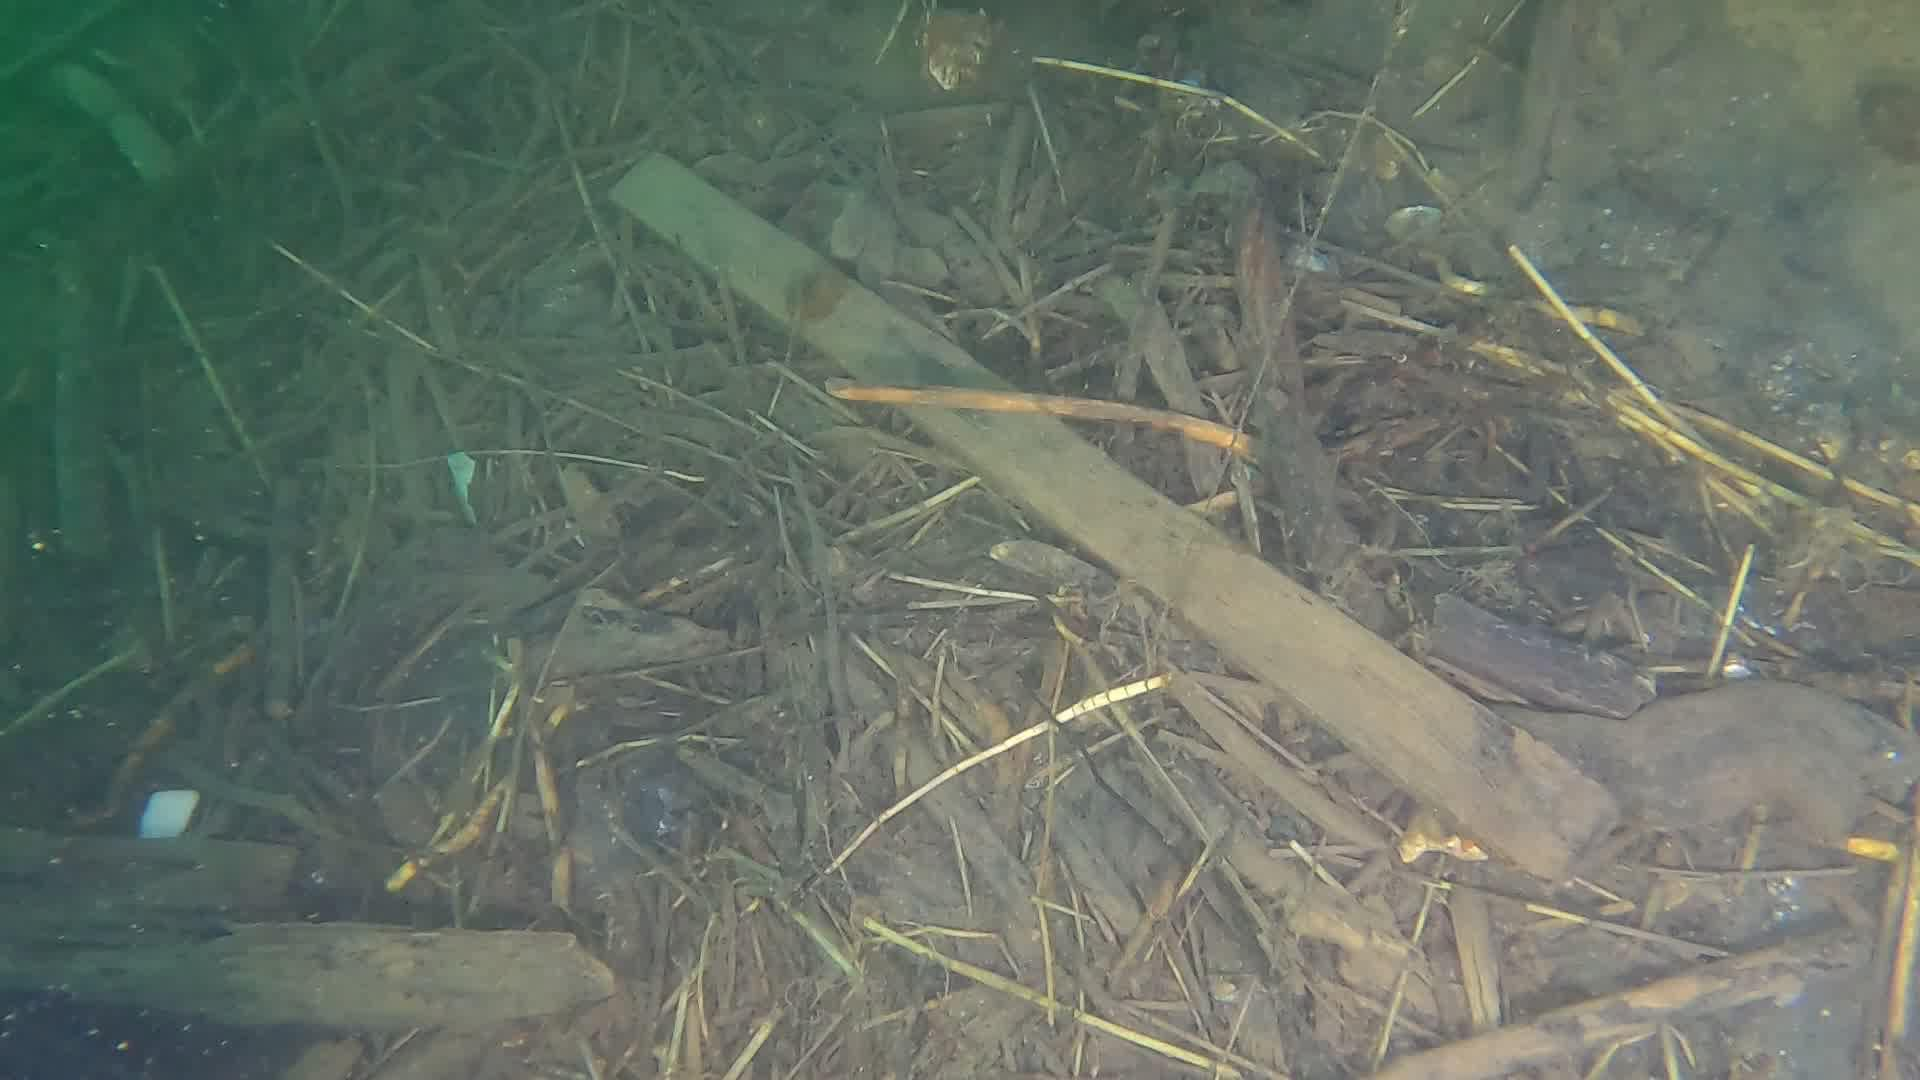wood: (611, 150, 1615, 886), (0, 919, 612, 1029), (0, 825, 299, 918)
